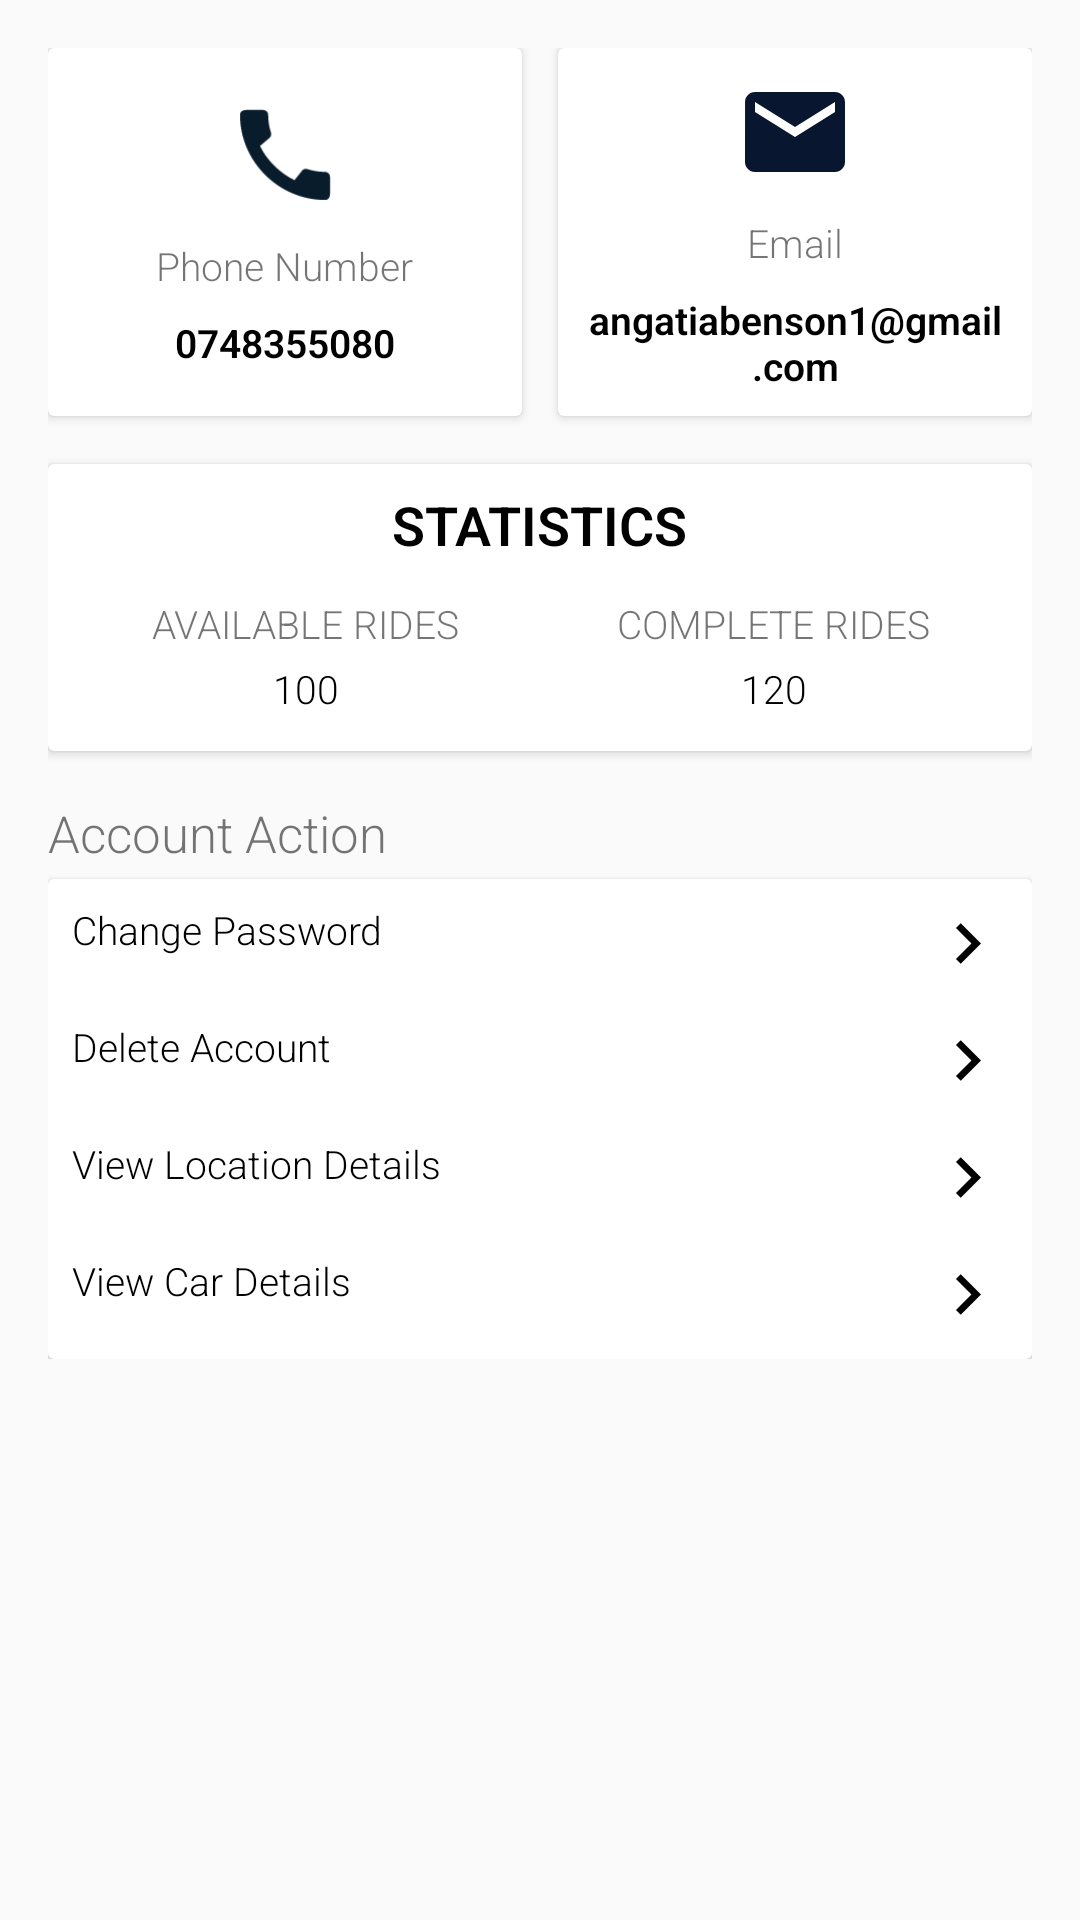

Locate icon controls on the screen. Image size 1080*1920, boxes as (x1, y1, x2, y2).
call: (240, 109, 331, 200)
